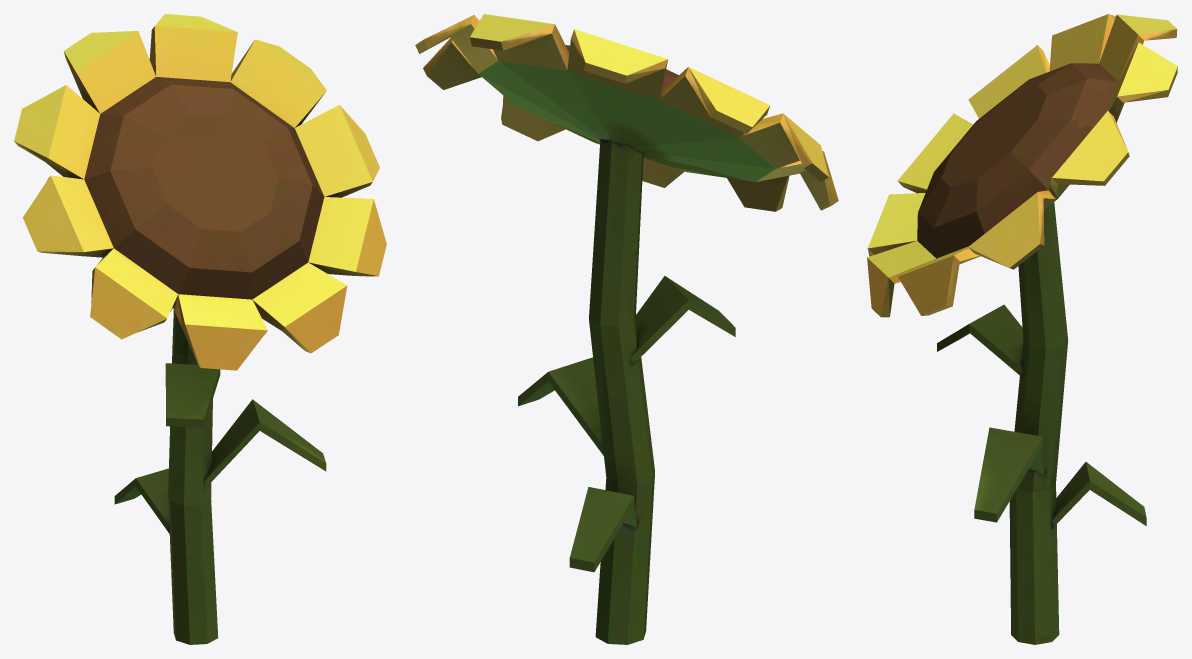
File: sunflowerG.glb
The picture shows the model from 3 angles, left to right: view 1: azimuth 30°, elevation 25°; view 2: azimuth 150°, elevation 25°; view 3: azimuth 270°, elevation 25°; orthographic projection. The views are drawn at different scales.
Parts seen in each view (by area): view 1: sunflower; view 2: sunflower; view 3: sunflower.
Boxes of the visible parts, bbox=[...] form: sunflower: bbox=[14, 14, 386, 644]; sunflower: bbox=[415, 14, 838, 644]; sunflower: bbox=[867, 14, 1177, 644].
Size of the model in its own units: 1.22 by 1.93 by 0.9138.
1 material, 1 textured.
